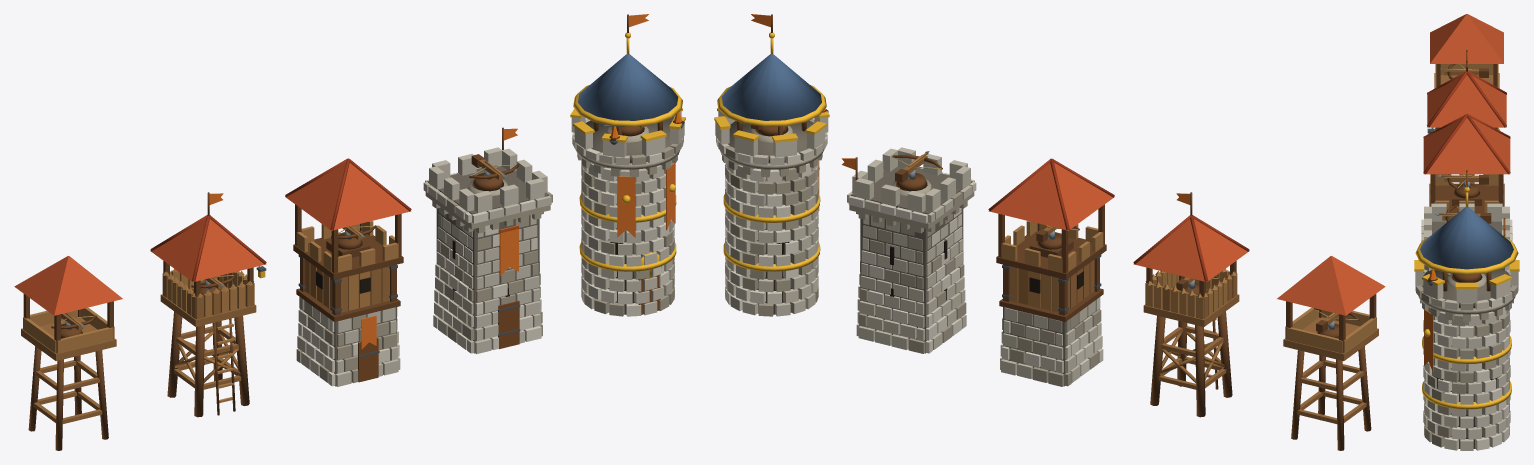
The model's file is tours.glb.
3 views of the same model, side by side, from view 1: azimuth 30°, elevation 25°; view 2: azimuth 150°, elevation 25°; view 3: azimuth 270°, elevation 25° (orthographic). The views are drawn at different scales.
Visible parts, largest first — view 1: toit.002, toit.003, toit.001, toit, noyau.001, plateforme.002, banniere.002, plateforme, noyau.002, toit_bord, linteau, porte.001 (+12 smaller); view 2: toit.003, toit.002, toit.001, toit, noyau.001, plateforme.002, plateforme, noyau.002, toit_bord, linteau, poteau.008, noyau.004 (+8 smaller); view 3: toit.002, toit.003, toit, toit.001, plateforme.002, toit_bord, noyau.004, lisere, banniere.003, lisere.001, chemin_ronde.001, noyau.003 (+76 smaller).
Boxes of the visible parts, x1=… form: toit.002: x1=285, y1=162, x2=411, y2=230; toit.003: x1=578, y1=54, x2=678, y2=120; toit.001: x1=150, y1=218, x2=266, y2=282; toit: x1=14, y1=256, x2=122, y2=315; noyau.001: x1=436, y1=208, x2=539, y2=353; plateforme.002: x1=293, y1=230, x2=403, y2=279; banniere.002: x1=617, y1=176, x2=635, y2=237; plateforme: x1=21, y1=317, x2=116, y2=360; noyau.002: x1=427, y1=166, x2=549, y2=222; toit_bord: x1=573, y1=85, x2=682, y2=126; linteau: x1=296, y1=288, x2=400, y2=321; porte.001: x1=498, y1=300, x2=519, y2=349; toit.003: x1=721, y1=54, x2=821, y2=120; toit.002: x1=988, y1=162, x2=1114, y2=230; toit.001: x1=1133, y1=219, x2=1249, y2=282; toit: x1=1277, y1=256, x2=1385, y2=315; noyau.001: x1=860, y1=208, x2=963, y2=353; plateforme.002: x1=996, y1=230, x2=1106, y2=279; plateforme: x1=1283, y1=317, x2=1378, y2=360; noyau.002: x1=850, y1=166, x2=972, y2=222; toit_bord: x1=717, y1=85, x2=826, y2=126; linteau: x1=999, y1=288, x2=1103, y2=321; poteau.008: x1=1195, y1=325, x2=1205, y2=417; noyau.004: x1=728, y1=120, x2=814, y2=163; toit.002: x1=1423, y1=118, x2=1510, y2=174; toit.003: x1=1420, y1=207, x2=1513, y2=269; toit: x1=1430, y1=14, x2=1503, y2=63; toit.001: x1=1427, y1=75, x2=1506, y2=127; plateforme.002: x1=1429, y1=183, x2=1504, y2=213; toit_bord: x1=1415, y1=236, x2=1518, y2=274; noyau.004: x1=1422, y1=269, x2=1511, y2=308; lisere: x1=1422, y1=381, x2=1511, y2=409; banniere.003: x1=1424, y1=310, x2=1433, y2=371; lisere.001: x1=1422, y1=336, x2=1511, y2=364; chemin_ronde.001: x1=1418, y1=296, x2=1515, y2=314; noyau.003: x1=1450, y1=321, x2=1483, y2=448.
Bounding box in the file's own units: 13.79 × 5.81 × 2.1.
